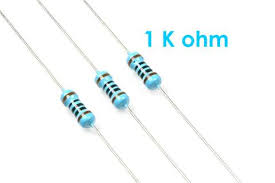resistor: (56, 83, 106, 140), (126, 42, 168, 92), (95, 67, 132, 114)
